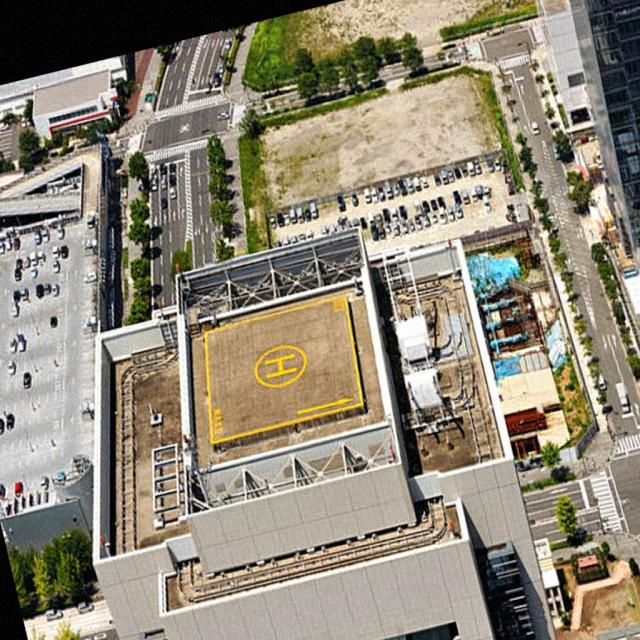helipad: (250, 340, 310, 390)
